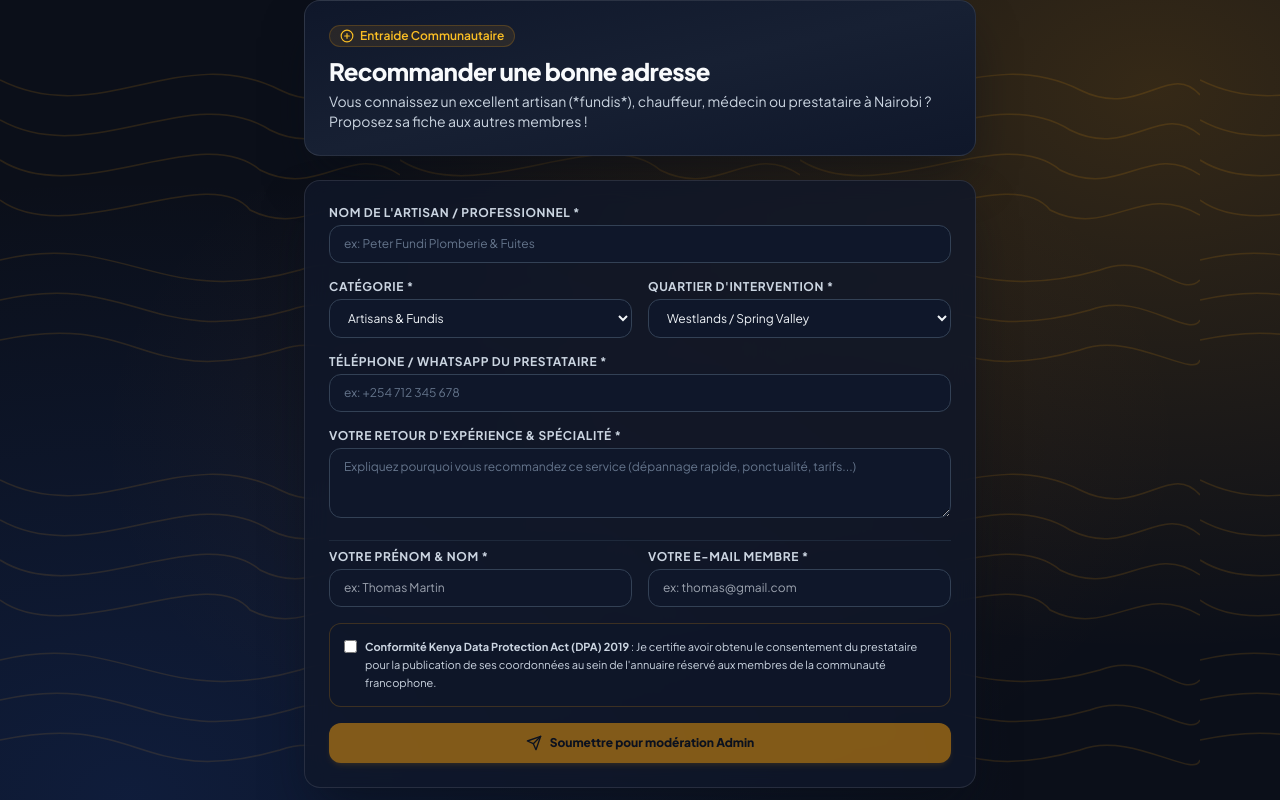
Test: SubmitPage Component (TDD & DPA 2019 Compliance) › keeps submit button disabled until mandatory DPA consent is checked
Expected: the button "Soumettre pour modération Admin" is disabled, [329, 723, 951, 763]
Click the checkbox: point(350, 646) [344, 640, 357, 653]
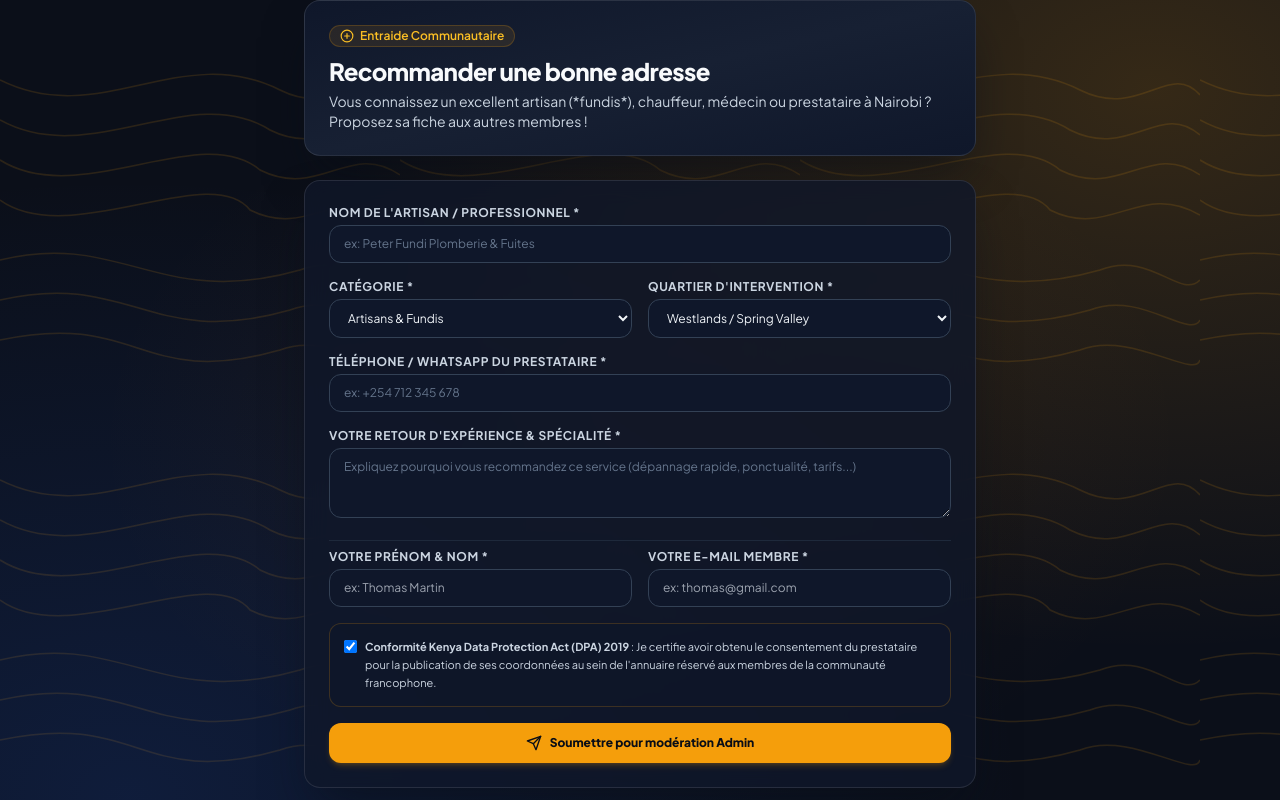
Expected: the button "Soumettre pour modération Admin" is enabled, [329, 723, 951, 763]
